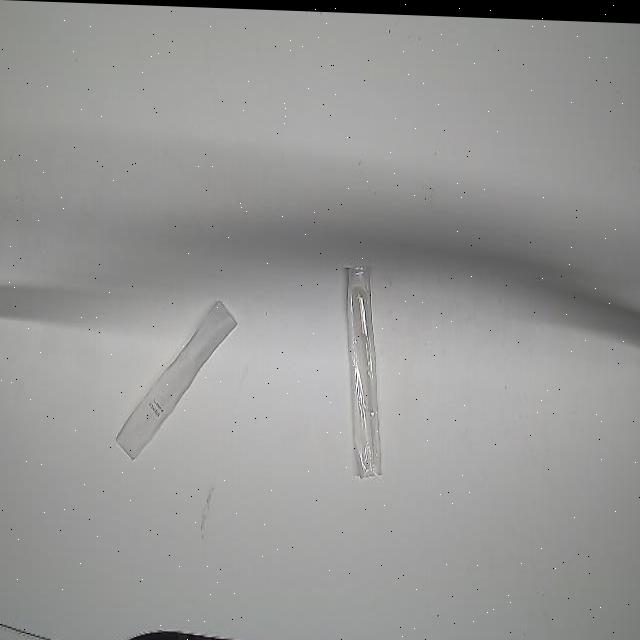Disposable Pasteur Pipette - Sealed: (114, 290, 239, 464), (342, 259, 388, 479)
